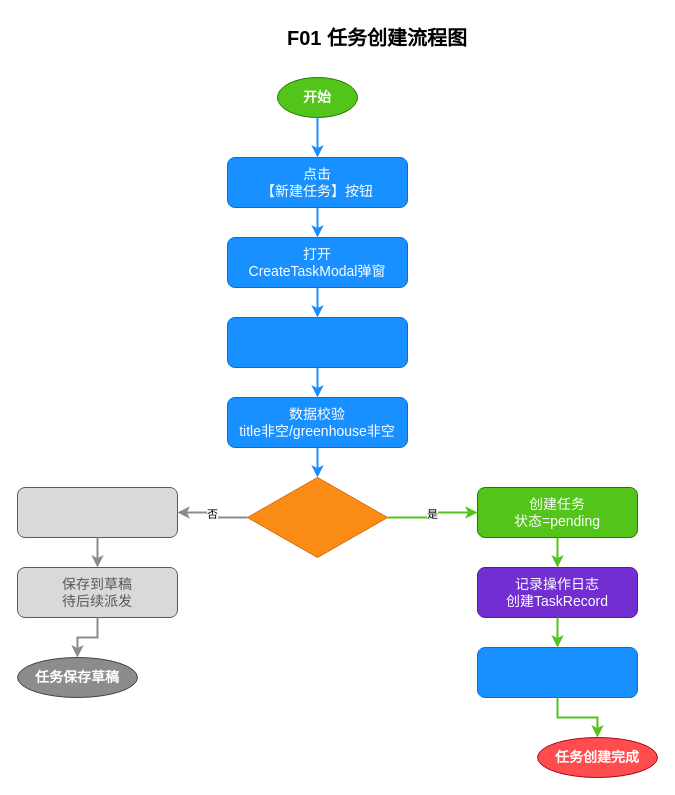
Image size: 675x795. Some labels were removed from this diagram. Here are the shapes that lost their labels. From the top down, the centre of each, then its label:
(317,342): 填写任务信息 标题/类型/区域/日期/工时/优先级
(97,512): 创建任务 状态=draft
(317,517): 是否选择 执行人？
(557,672): 发送通知 提醒执行人
